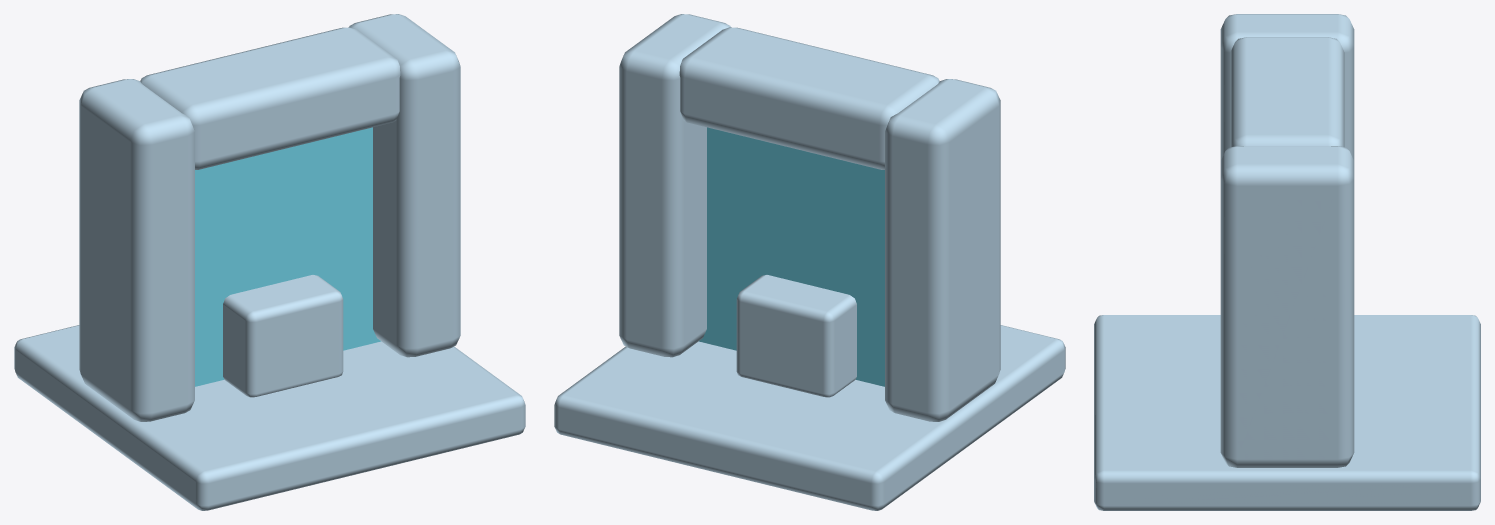
The model's file is R4X_StructuralScanner.glb.
3 views of the same model, side by side, from view 1: azimuth 30°, elevation 25°; view 2: azimuth 150°, elevation 25°; view 3: azimuth 270°, elevation 25° (orthographic).
Visible parts, largest first — view 1: R4X_StructuralScanner_Body; view 2: R4X_StructuralScanner_Body; view 3: R4X_StructuralScanner_Body.
Boxes of the visible parts, x1,y1,x2,y2 form: R4X_StructuralScanner_Body: (14, 14, 525, 510); R4X_StructuralScanner_Body: (554, 14, 1065, 510); R4X_StructuralScanner_Body: (1094, 14, 1480, 510).
Size of the model in its own units: 0.52 by 0.5145 by 0.52.
